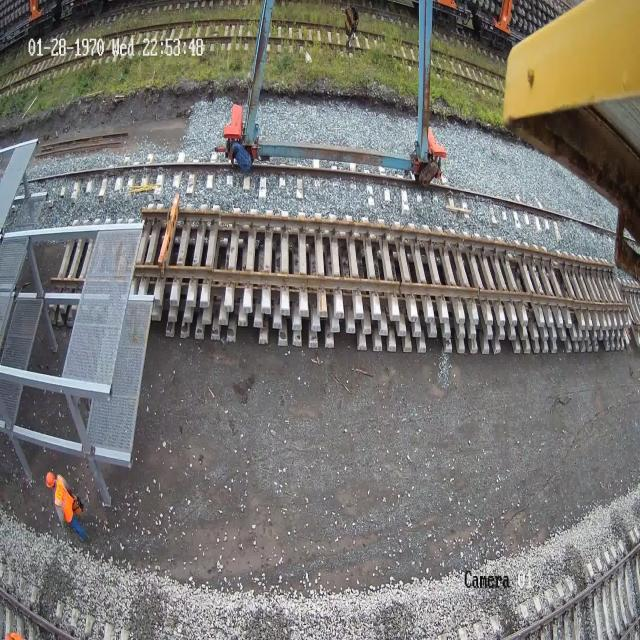Helmet: (46, 472, 55, 488)
Person: (45, 471, 88, 541)
